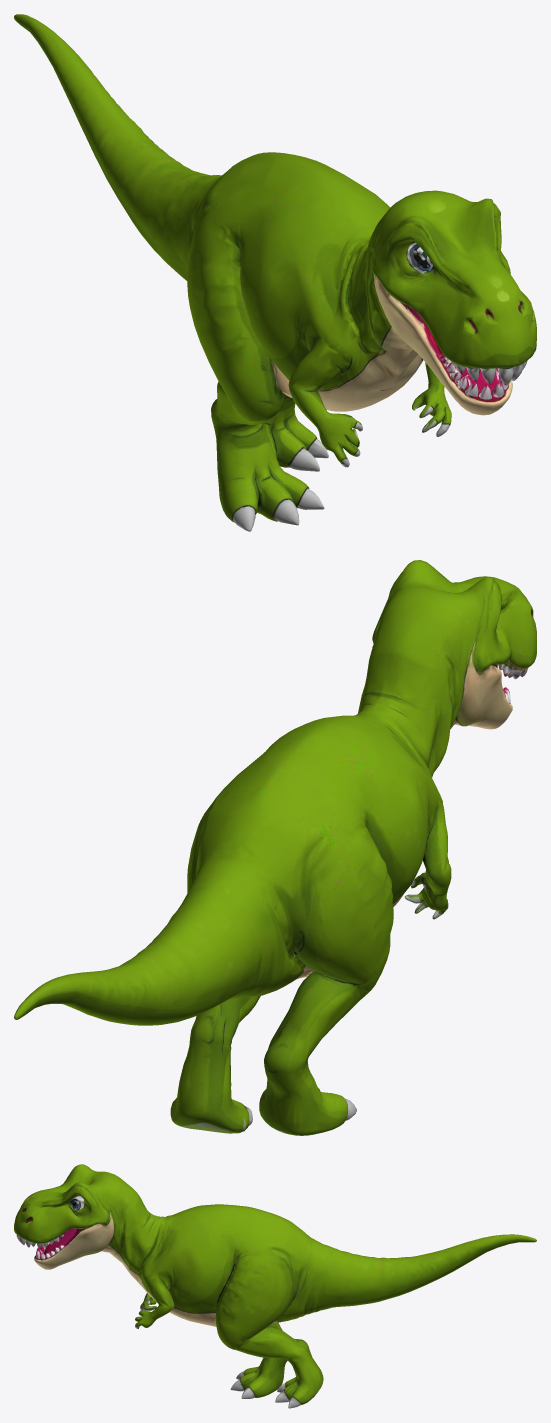
The model's file is rex.glb.
3 views of the same model, one above another, from view 1: azimuth 30°, elevation 25°; view 2: azimuth 150°, elevation 25°; view 3: azimuth 270°, elevation 25° (orthographic). The views are drawn at different scales.
Bounding box in the file's own units: 0.3988 × 0.888 × 1.9.
Materials: 1 (1 with a texture image).
